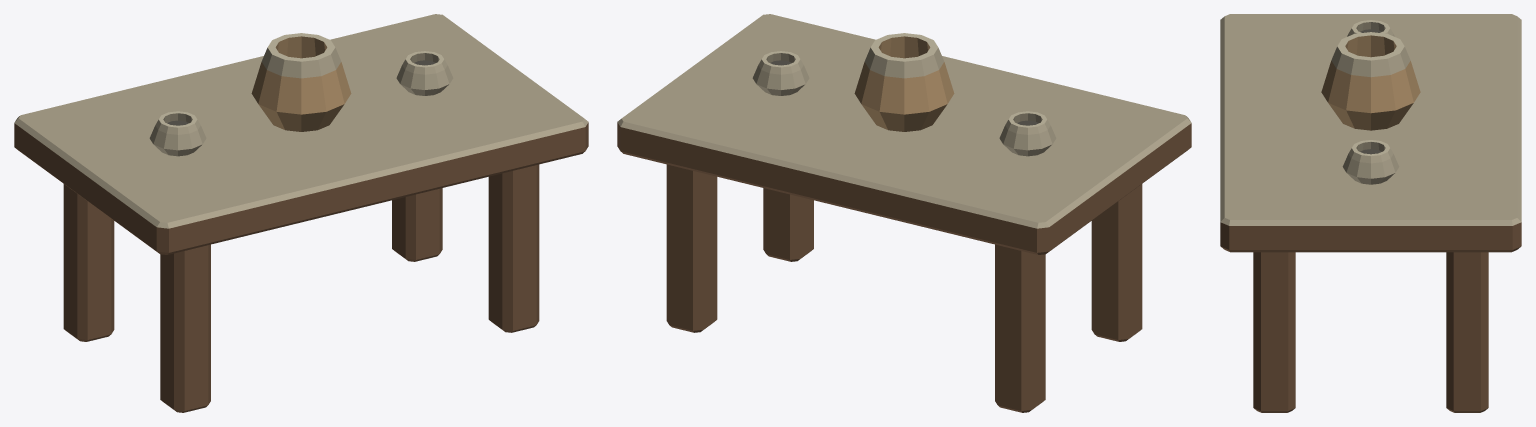
The model's file is tea-table.glb.
3 views of the same model, side by side, from view 1: azimuth 30°, elevation 25°; view 2: azimuth 150°, elevation 25°; view 3: azimuth 270°, elevation 25° (orthographic).
Visible parts, largest first — view 1: tea-table__body; view 2: tea-table__body; view 3: tea-table__body.
Boxes of the visible parts, bbox=[...] form: tea-table__body: bbox=[14, 14, 588, 412]; tea-table__body: bbox=[617, 14, 1191, 412]; tea-table__body: bbox=[1220, 14, 1521, 412].
Size of the model in its own units: 1.4 by 0.87 by 0.85.
